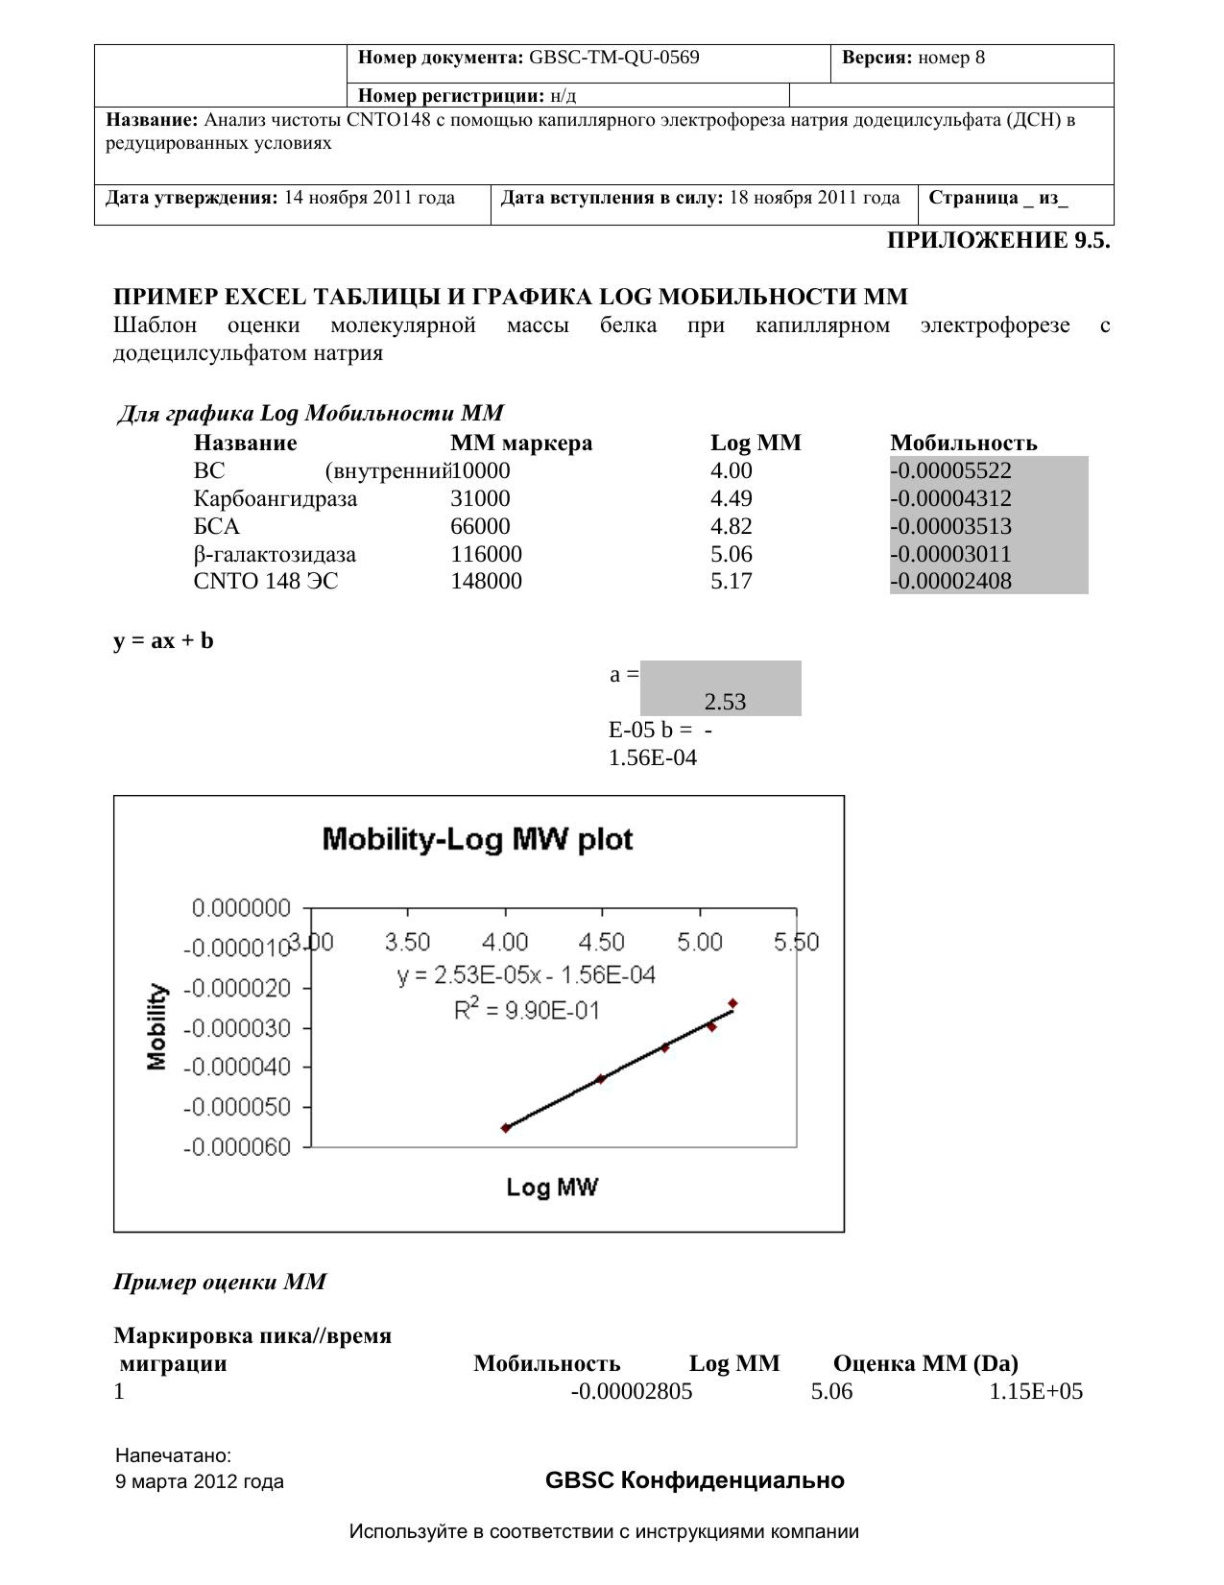merged_cells: (94, 44, 1115, 226)
nolines: (181, 427, 1092, 596), (105, 1321, 1086, 1405)
